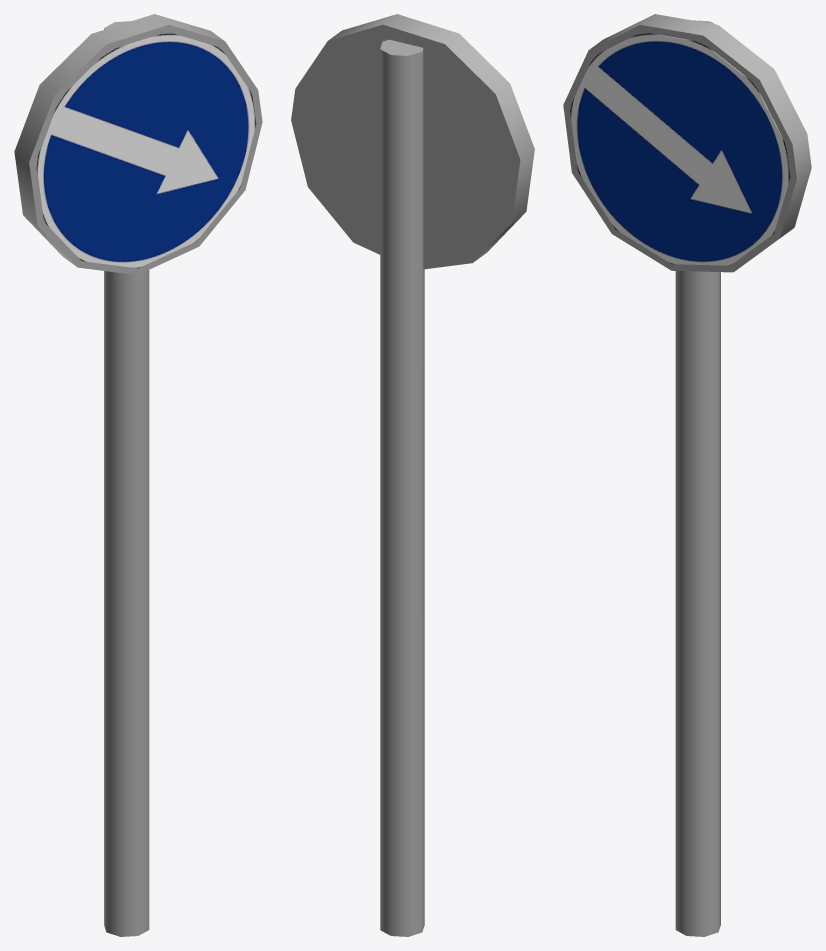
Rendered from RoadSign.fbx.
3 views of the same model, side by side, from view 1: azimuth 30°, elevation 25°; view 2: azimuth 150°, elevation 25°; view 3: azimuth 330°, elevation 25° (orthographic).
Visible parts, largest first — view 1: layer_4_1, layer_1, layer_4; view 2: layer_1, layer_4; view 3: layer_4_1, layer_1, layer_4.
Boxes of the visible parts, box(x1,y1,x2,y2) form: layer_4_1: box(36, 33, 256, 268); layer_1: box(104, 21, 149, 936); layer_4: box(14, 14, 262, 274); layer_1: box(380, 39, 424, 936); layer_4: box(291, 14, 534, 269); layer_4_1: box(570, 33, 790, 265); layer_1: box(675, 20, 720, 936); layer_4: box(563, 14, 811, 272).
Size of the model in its own units: 0.6813 by 2.54 by 0.1551.
